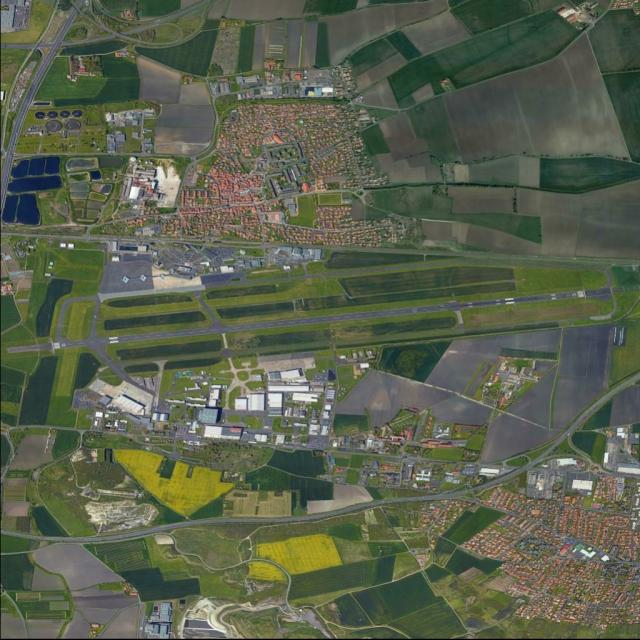storage-tank: (130, 156, 136, 162), (299, 119, 304, 124)
